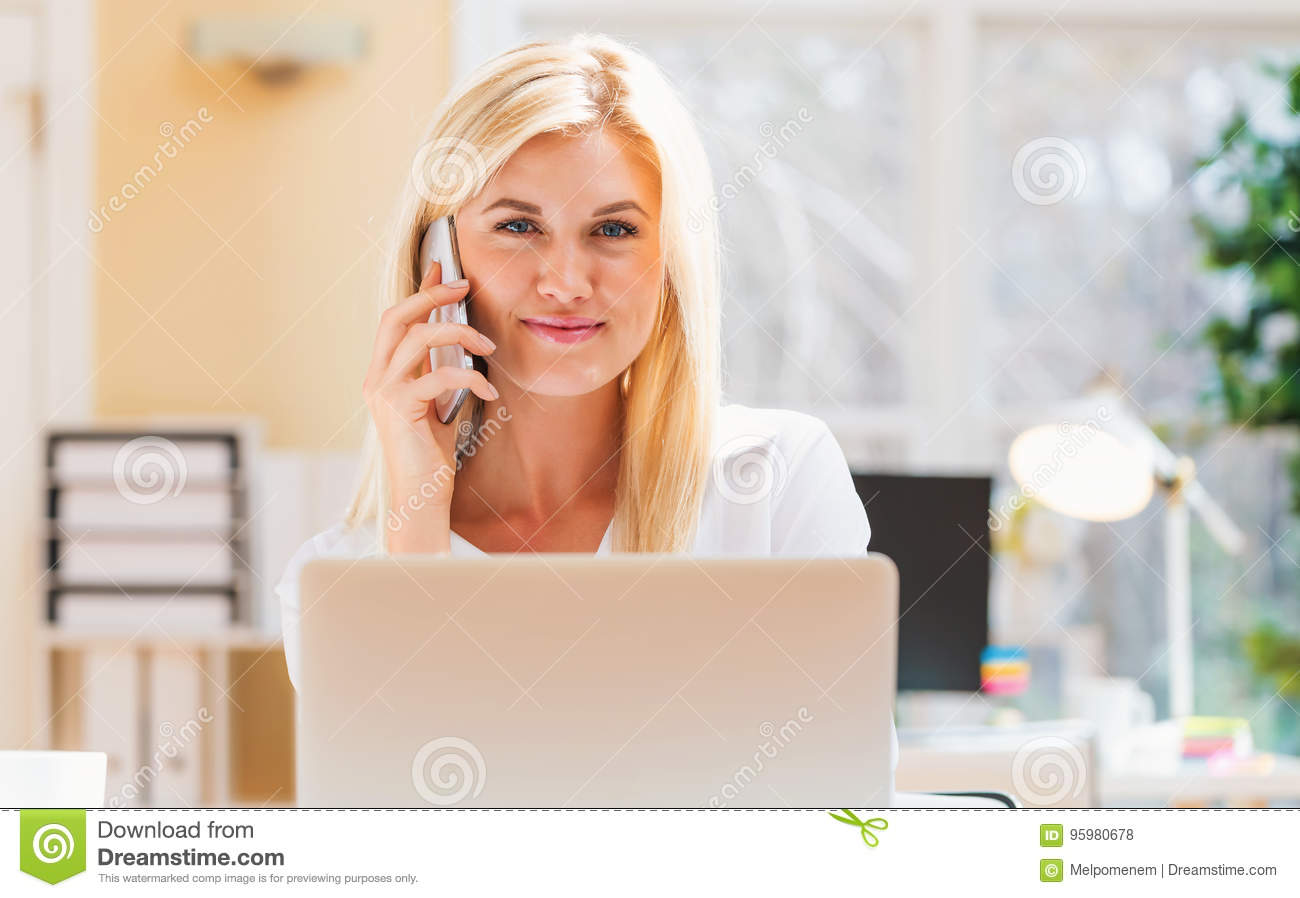phone: (408, 197, 477, 427)
talk: (362, 179, 655, 532)
